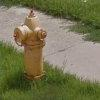a fire hydrant: (17, 11, 47, 79)
